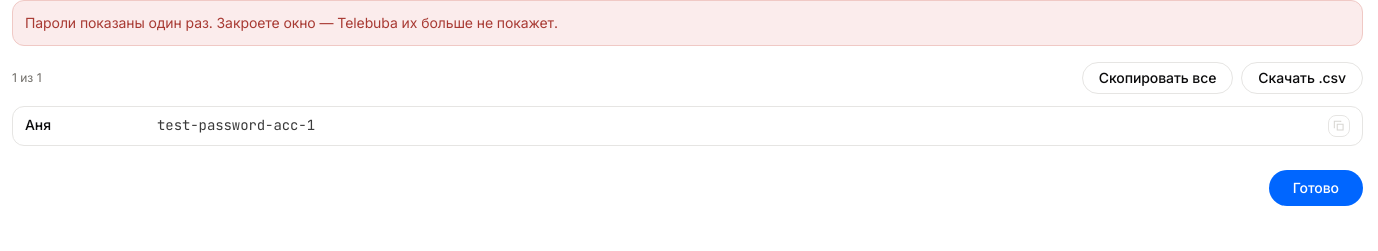
it: a rejected clipboard write never claims the passwords were copied
What coordinates should you click on to do the following:
click the button "Скопировать все"
I would click on:
 (1158, 78)
Its box is x1=1082 y1=62 x2=1233 y2=94.
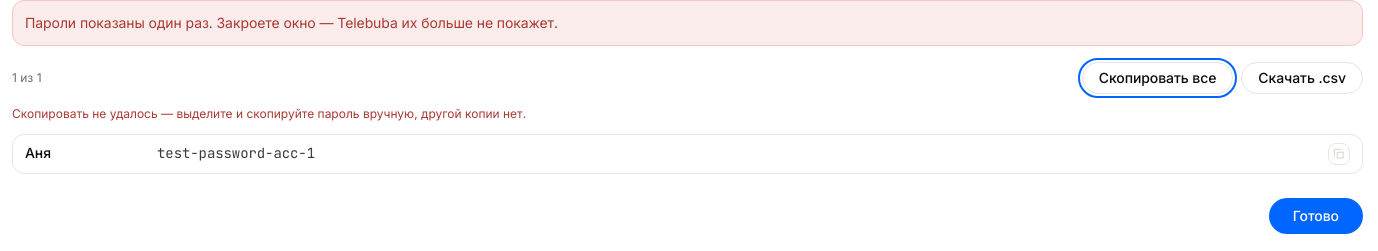
Expected: the text "test-password-acc-1" is shown, x1=157 y1=144 x2=315 y2=162
Result: the text "Скопировать не удалось" is shown at x1=12 y1=106 x2=526 y2=121
